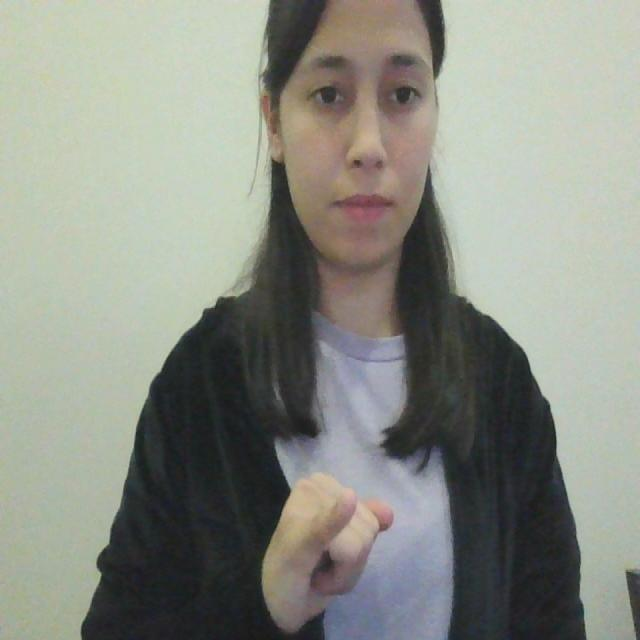kotu: (257, 458, 401, 620)
